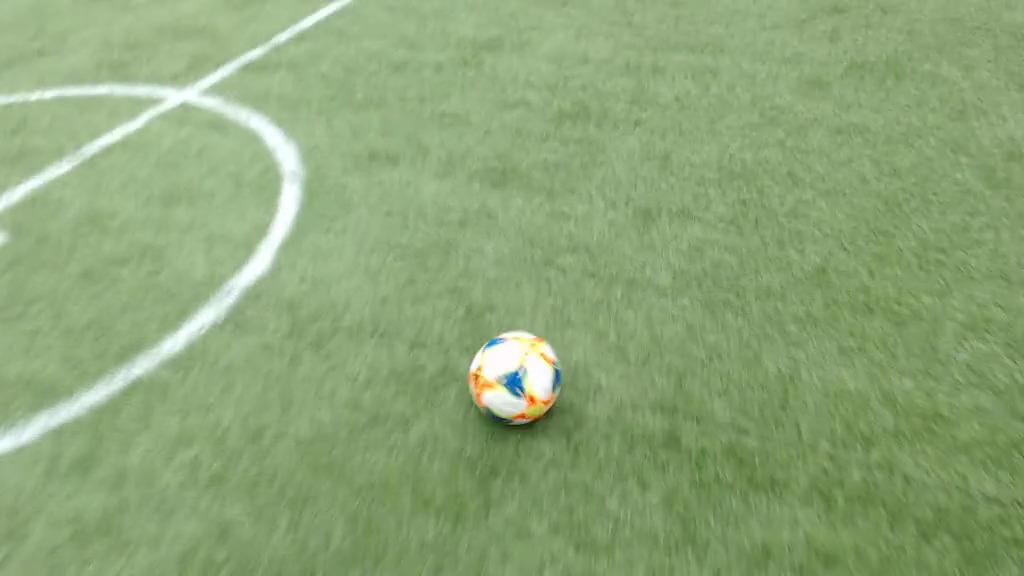ball: (469, 331, 562, 427)
